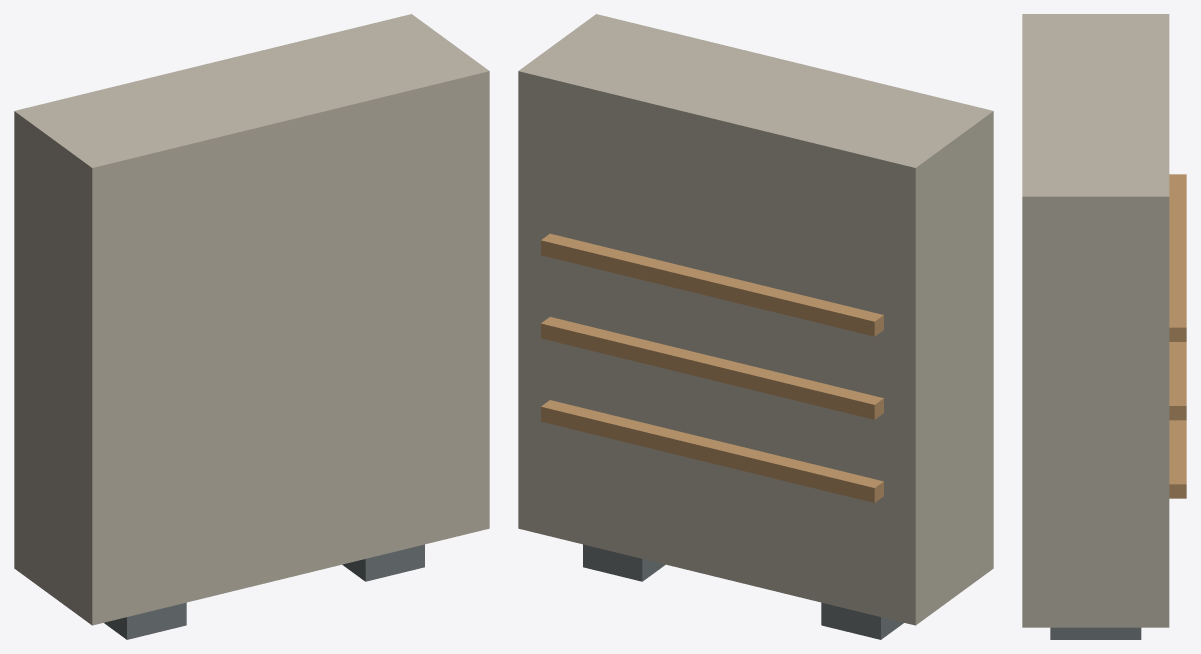
The model's file is portable_heater.glb.
3 renders of one model, left to right at view 1: azimuth 30°, elevation 25°; view 2: azimuth 150°, elevation 25°; view 3: azimuth 270°, elevation 25°, orthographic. The views are drawn at different scales.
Parts seen in each view (by area): view 1: body; view 2: body; view 3: body.
Part boxes in pixels (<box>): body: <box>14,14,489,639</box>; body: <box>518,14,993,639</box>; body: <box>1022,14,1186,639</box>.
Size of the model in its own units: 0.5 by 0.595 by 0.19.
